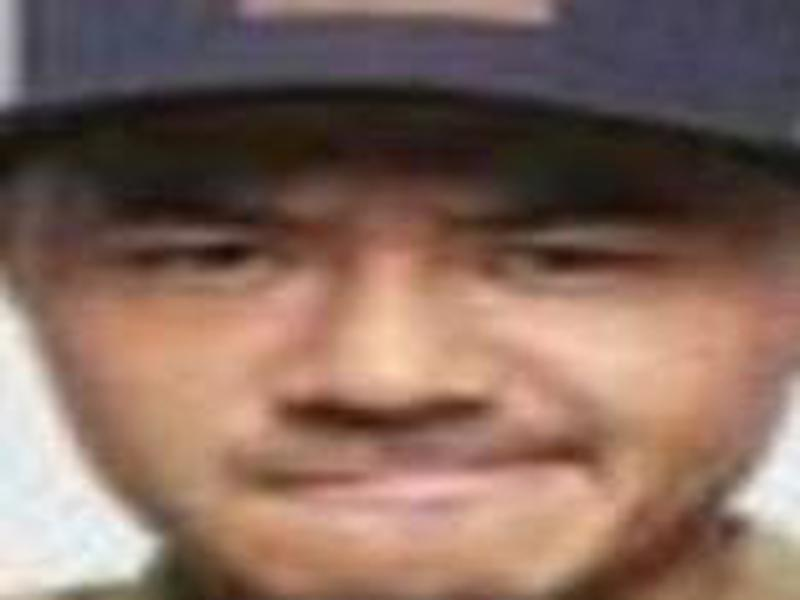without_mask: (6, 129, 791, 599)
